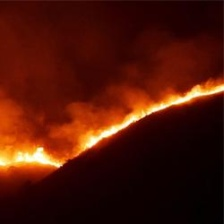fire: (1, 81, 224, 176)
